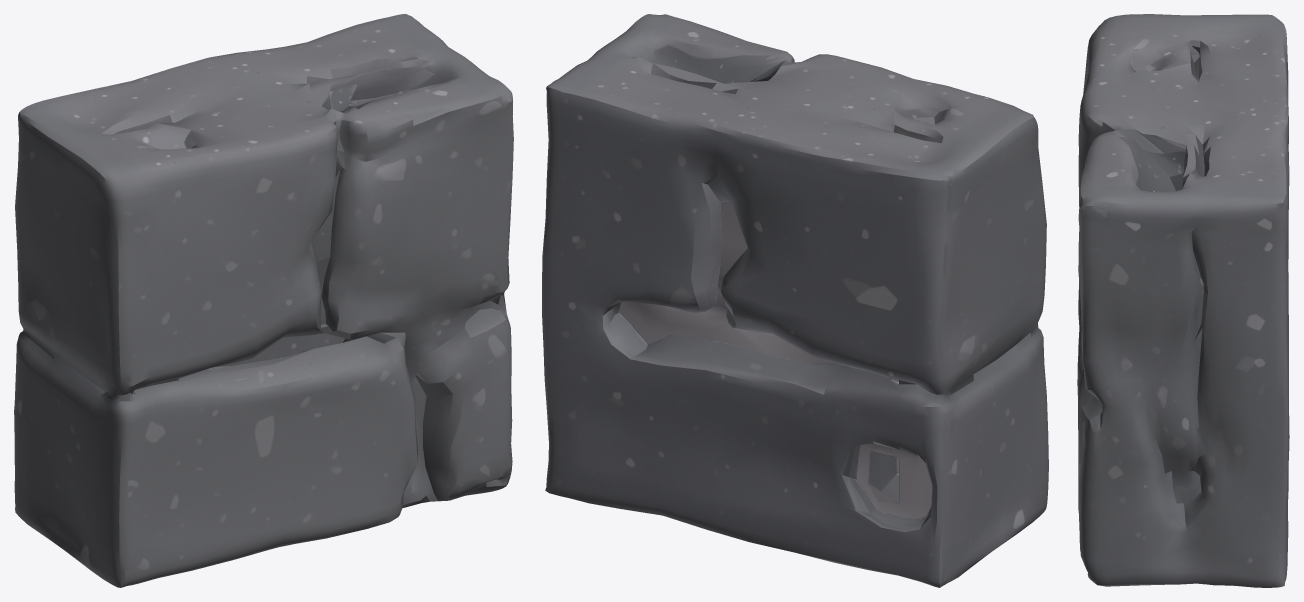
File: brick_std_granite_b.glb
3 views of the same model, side by side, from view 1: azimuth 30°, elevation 25°; view 2: azimuth 150°, elevation 25°; view 3: azimuth 270°, elevation 25° (orthographic). The views are drawn at different scales.
Parts seen in each view (by area): view 1: Mesh_0; view 2: Mesh_0; view 3: Mesh_0.
Boxes of the visible parts, <box> form: Mesh_0: <box>14,14,513,587</box>; Mesh_0: <box>542,14,1048,587</box>; Mesh_0: <box>1077,14,1289,587</box>.
Bounding box in the file's own units: 1.9 × 1.84 × 0.904.
1 material, 1 textured.
